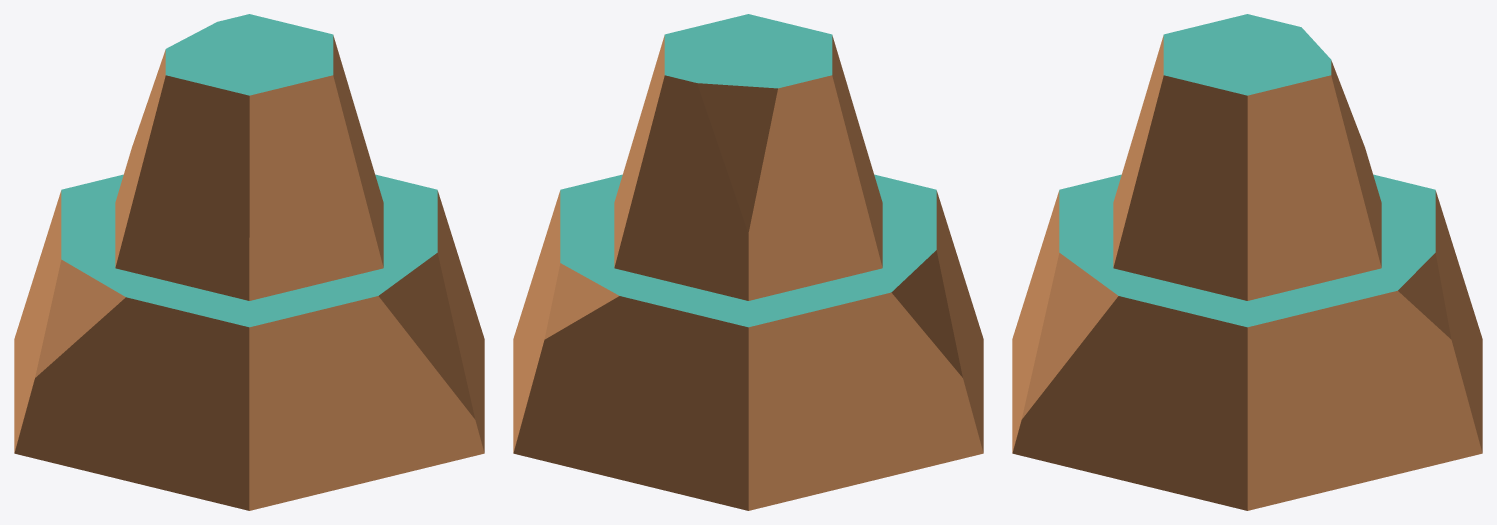
The model's file is rock_small6.obj.
3 renders of one model, left to right at view 1: azimuth 30°, elevation 25°; view 2: azimuth 150°, elevation 25°; view 3: azimuth 270°, elevation 25°, orthographic.
Parts seen in each view (by area): view 1: rock_small6; view 2: rock_small6; view 3: rock_small6.
Part boxes in pixels (x1,y1,x2,y2): rock_small6: (14, 14, 484, 510); rock_small6: (513, 14, 983, 510); rock_small6: (1012, 14, 1482, 510).
Size of the model in its own units: 3.54 by 2.45 by 3.06.
